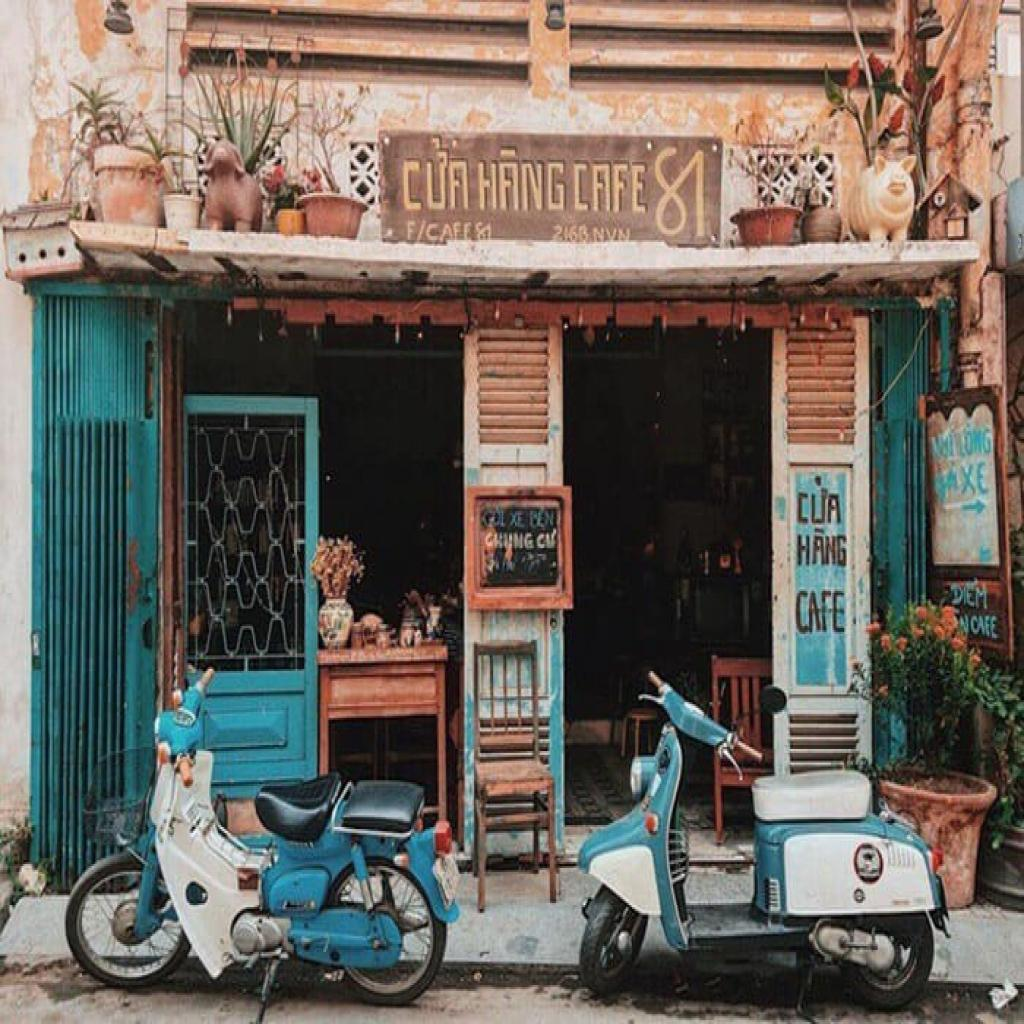text: (476, 144, 568, 218), (401, 132, 472, 214), (572, 156, 651, 215), (651, 142, 689, 242), (796, 470, 845, 527), (688, 142, 712, 240), (794, 528, 850, 570), (949, 578, 992, 614), (957, 420, 993, 460), (423, 220, 474, 246), (960, 460, 992, 500), (928, 423, 958, 464), (591, 222, 633, 246), (486, 531, 535, 550), (551, 224, 591, 246), (971, 612, 1001, 640), (528, 507, 556, 531), (535, 527, 559, 552), (474, 220, 494, 246), (402, 216, 417, 244), (509, 509, 528, 531), (416, 216, 428, 246)
